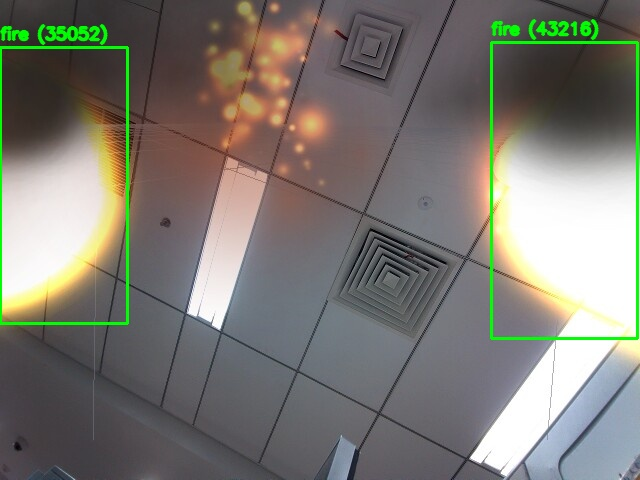fire: (491, 42, 637, 338), (0, 47, 127, 323)
